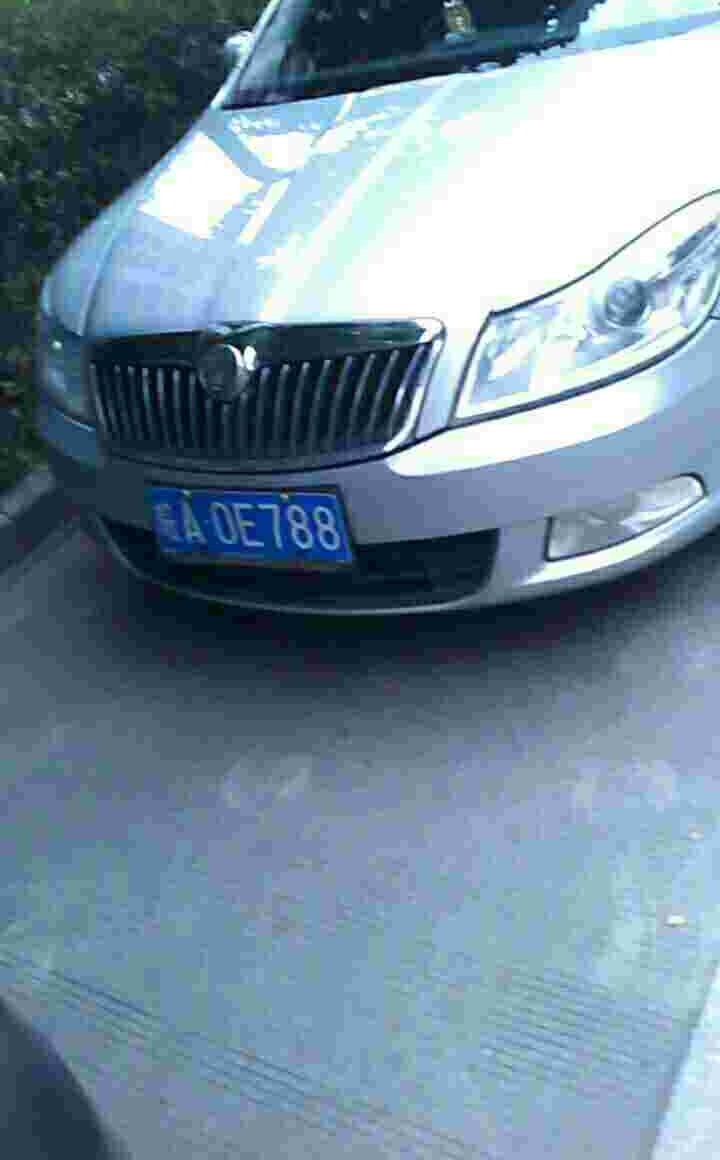license_plate: (148, 477, 344, 563)
